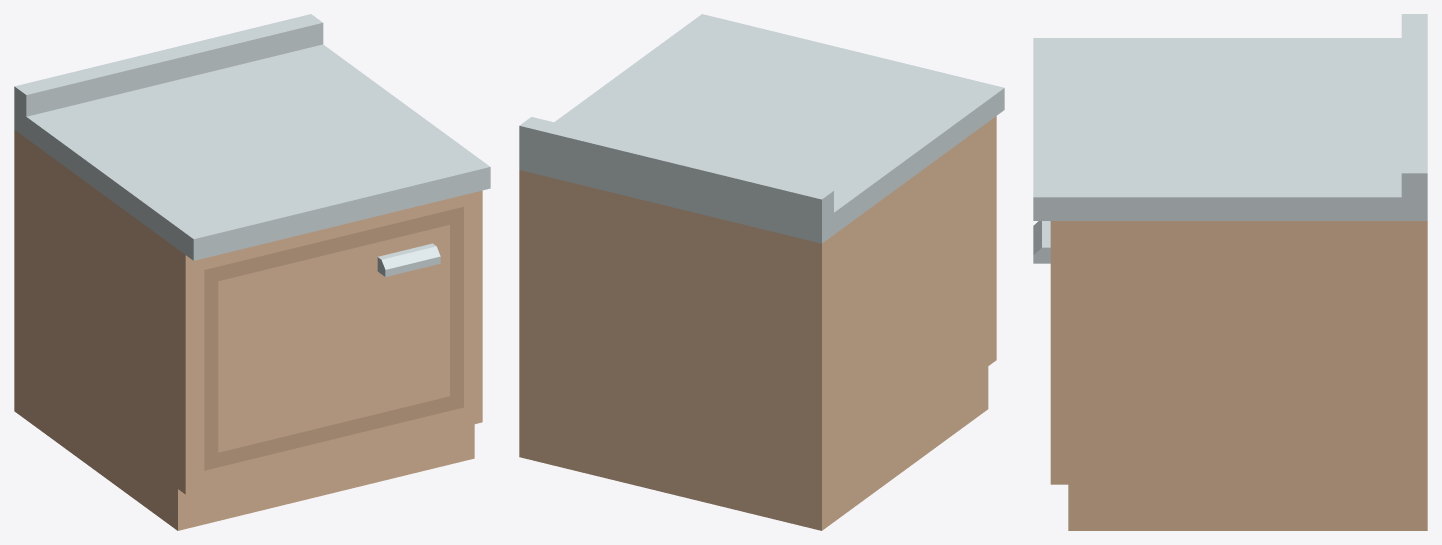
Rendered from kitchenCabinet.glb.
The picture shows the model from 3 angles, left to right: view 1: azimuth 30°, elevation 25°; view 2: azimuth 150°, elevation 25°; view 3: azimuth 270°, elevation 25°; orthographic projection. The views are drawn at different scales.
Parts seen in each view (by area): view 1: Mesh kitchenCabinet, door; view 2: Mesh kitchenCabinet; view 3: Mesh kitchenCabinet, door.
Boxes of the visible parts, x1,y1,x2,y2 form: Mesh kitchenCabinet: [14, 14, 490, 530]; door: [204, 206, 463, 470]; Mesh kitchenCabinet: [519, 14, 1004, 530]; Mesh kitchenCabinet: [1033, 14, 1427, 530]; door: [1033, 221, 1050, 263].
Bounding box in the file's own units: 0.43 × 0.45 × 0.45.
